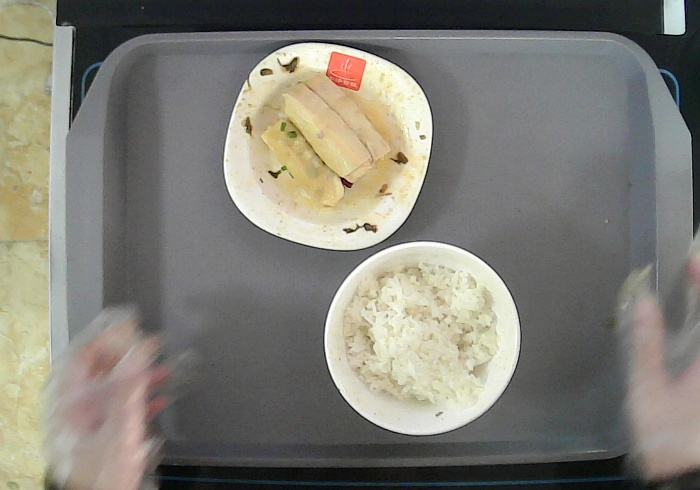SHKJ-Bai_Se_Si_Fang_Cai_Die: (222, 41, 435, 252)
SHKJ-Fan_Wan: (324, 240, 521, 436)
